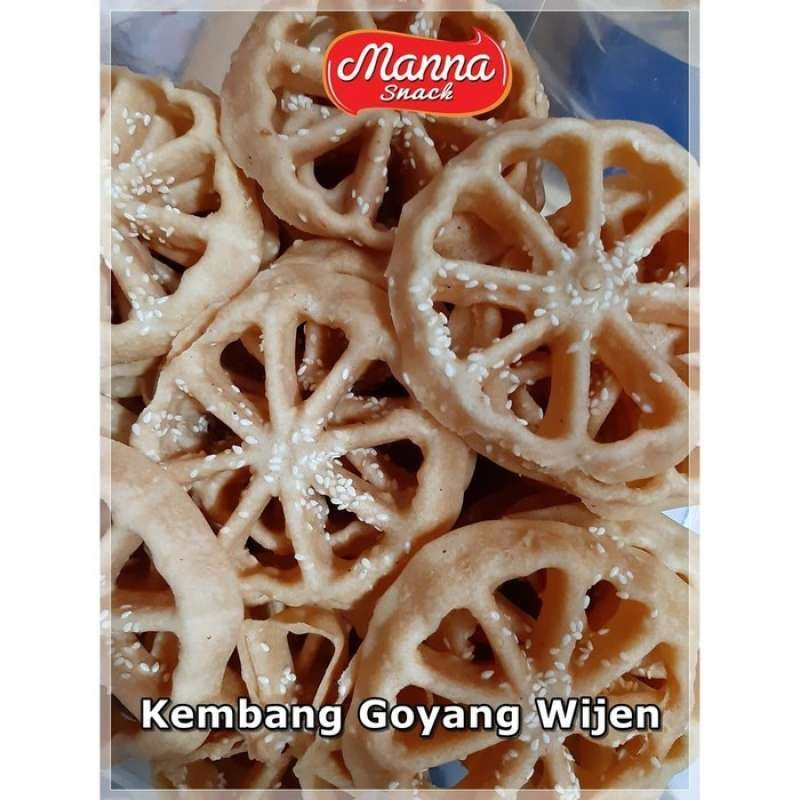kembang_goyang: (394, 117, 712, 471)
